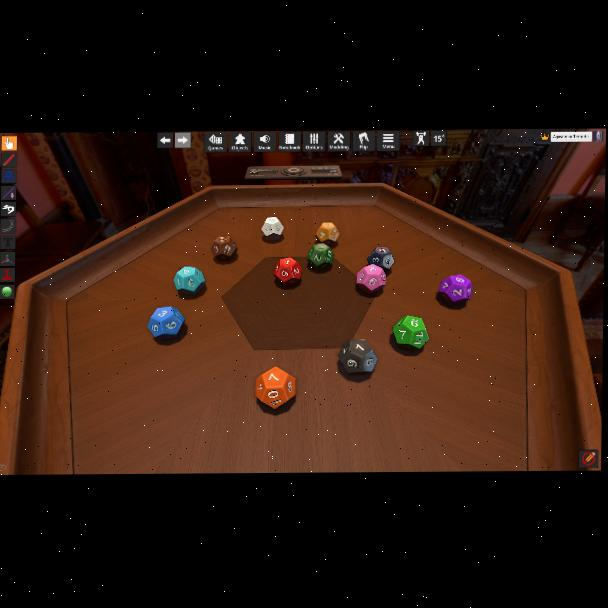d12: (255, 364, 298, 406), (337, 341, 374, 376), (148, 306, 186, 340), (437, 274, 472, 305), (392, 317, 424, 349), (174, 265, 206, 296), (356, 265, 386, 294), (273, 258, 301, 286), (366, 247, 394, 272), (211, 235, 236, 261), (307, 243, 333, 268), (261, 216, 284, 240), (316, 222, 339, 245)
